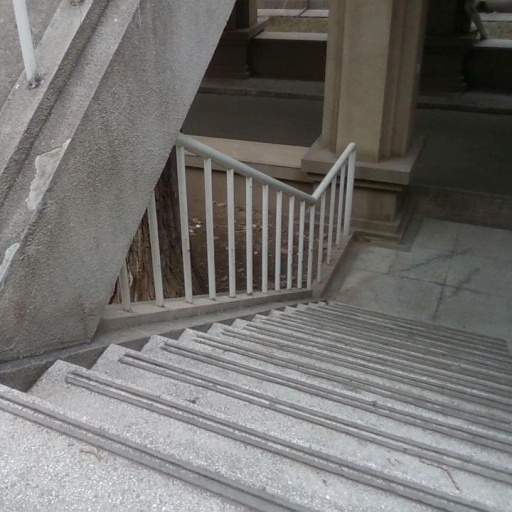Stairs: (0, 302, 512, 512)
